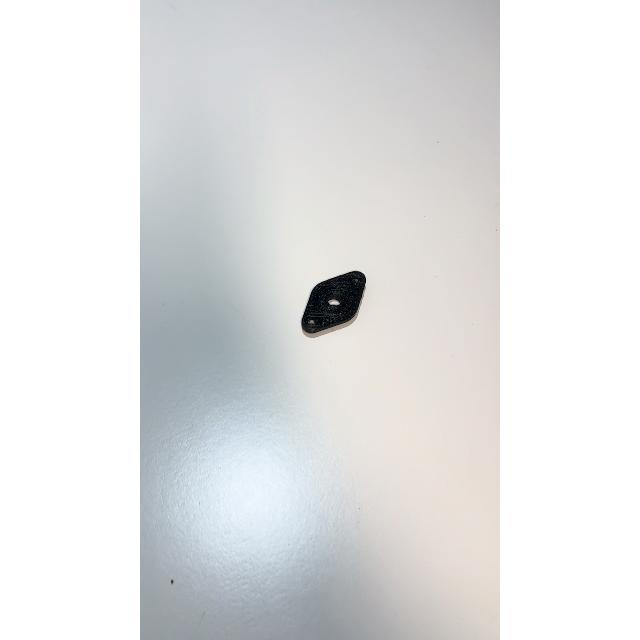Pieza2: (287, 264, 379, 348)
